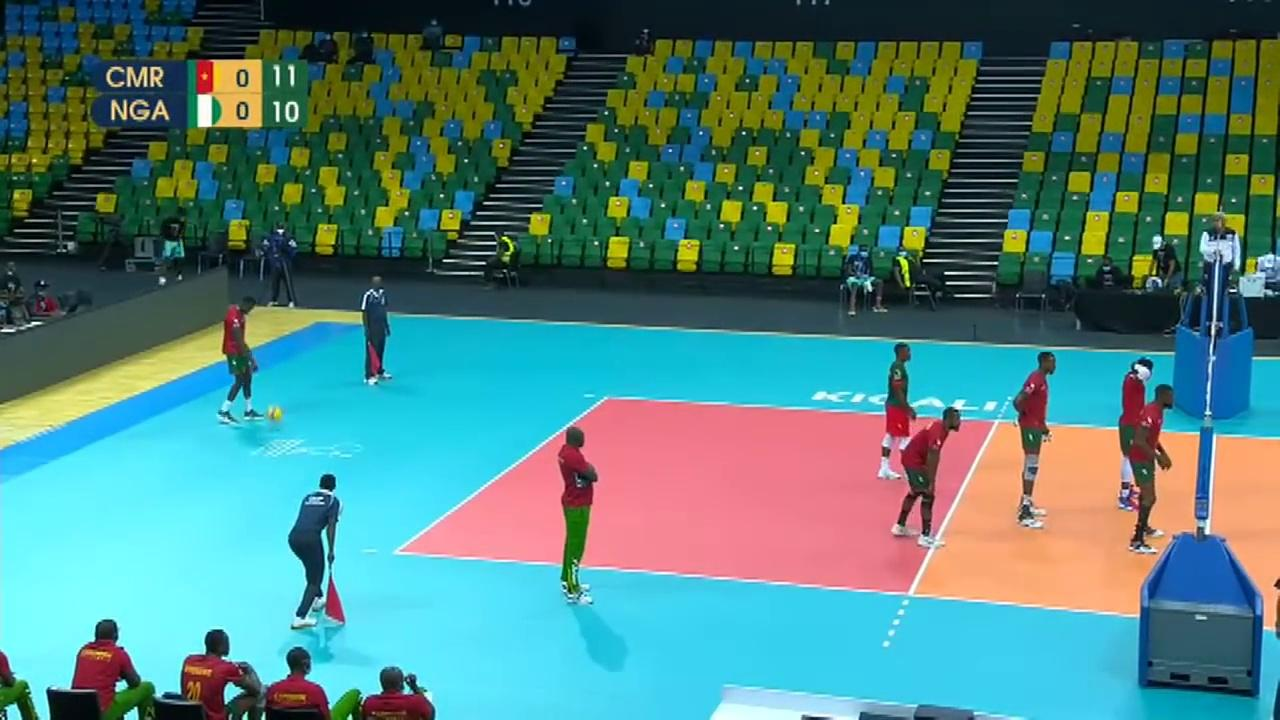player: (892, 407, 956, 546), (1126, 384, 1179, 549), (1012, 356, 1057, 526), (867, 340, 919, 485), (215, 292, 268, 425), (1116, 354, 1160, 512)
refree: (287, 477, 344, 624), (1199, 211, 1240, 328), (363, 277, 393, 387)
